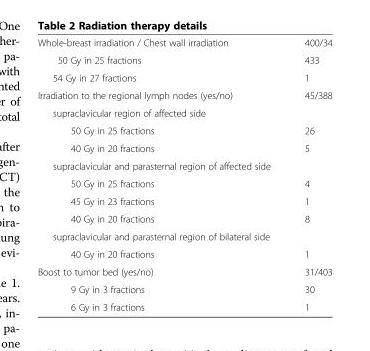table: (36, 36, 331, 312)
table column: (36, 36, 286, 312), (286, 36, 331, 312)
table projected row header: (36, 103, 331, 121), (36, 156, 331, 174), (36, 227, 331, 244)
table row: (36, 50, 331, 68), (36, 68, 331, 86), (36, 103, 331, 121), (36, 121, 331, 139), (36, 156, 331, 174), (36, 174, 331, 192), (36, 209, 331, 227), (36, 244, 331, 262), (36, 262, 331, 280), (36, 86, 331, 103), (36, 139, 331, 156), (36, 192, 331, 209), (36, 227, 331, 244), (36, 280, 331, 297), (36, 297, 331, 312), (36, 36, 331, 50)
